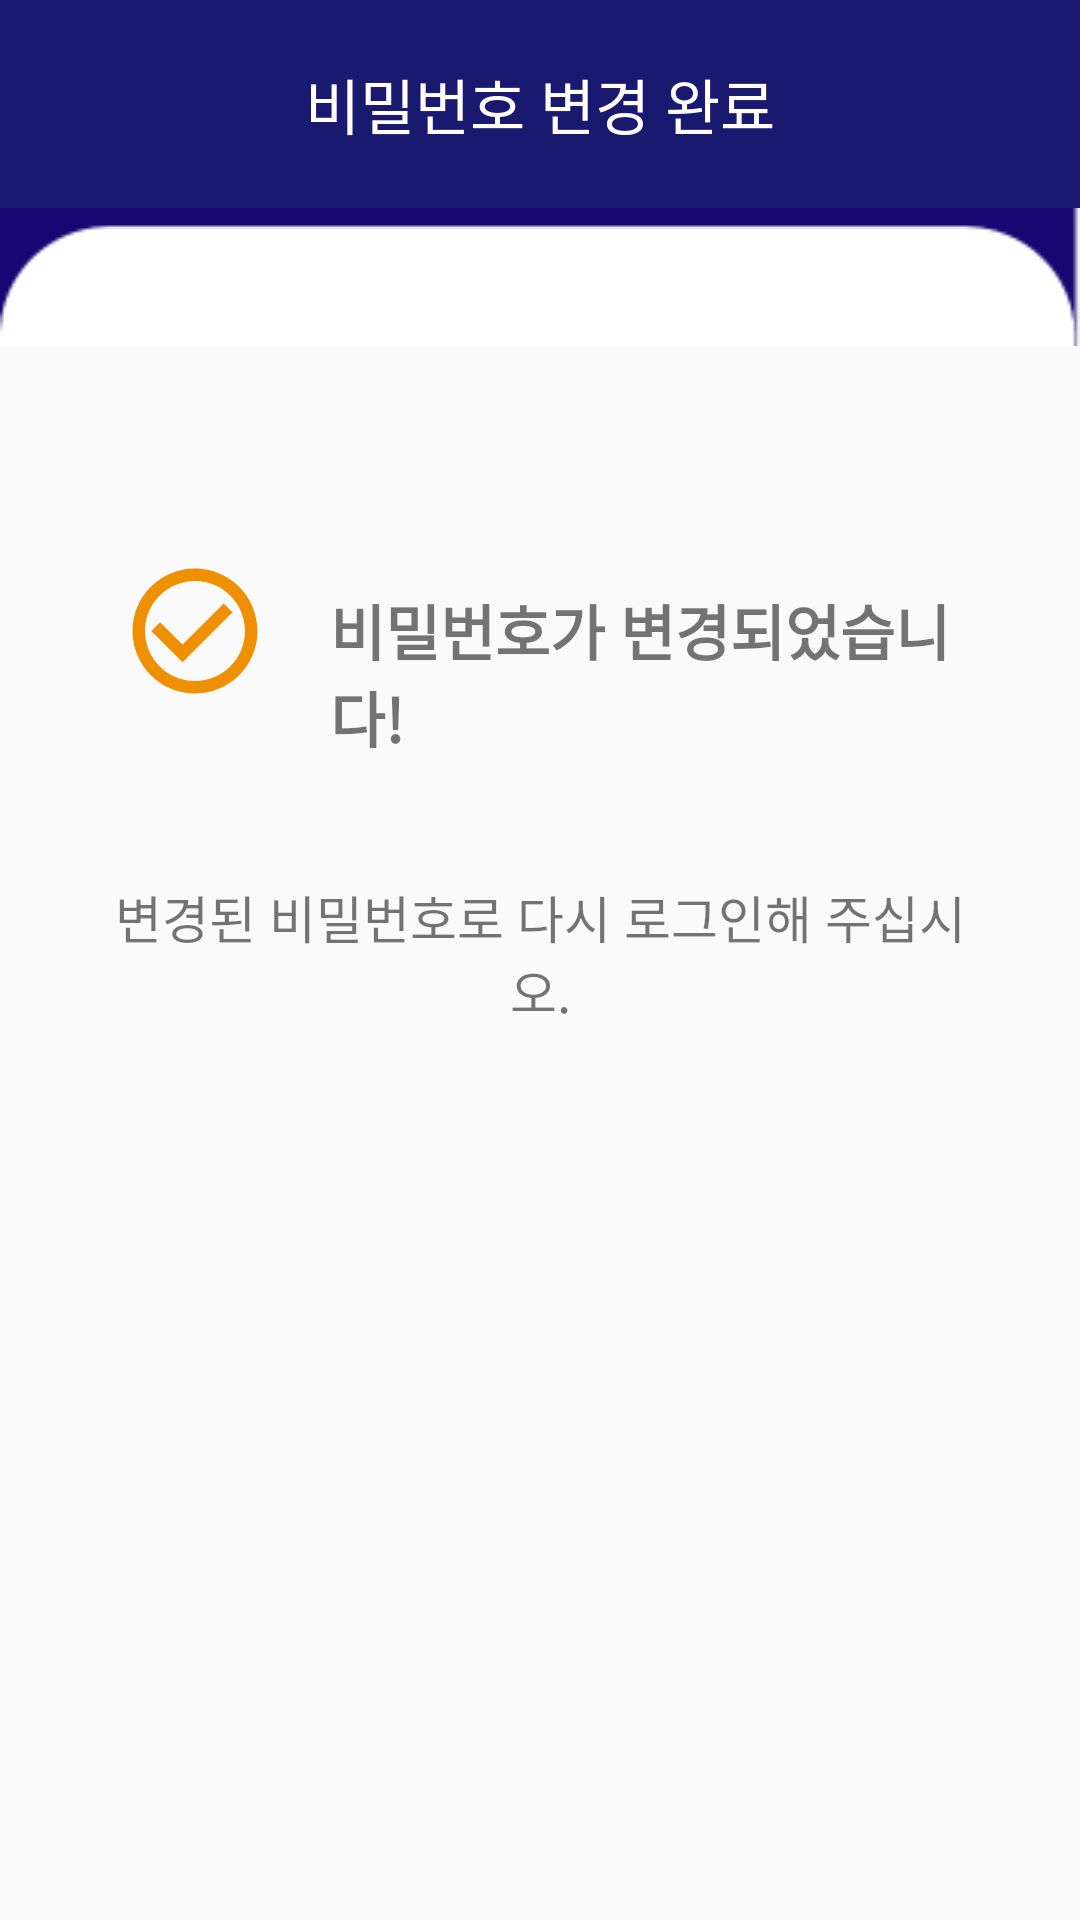

Screen size 1080*1920. Icon name, then its center in pixels as point (x, y):
check circle: point (195, 631)
